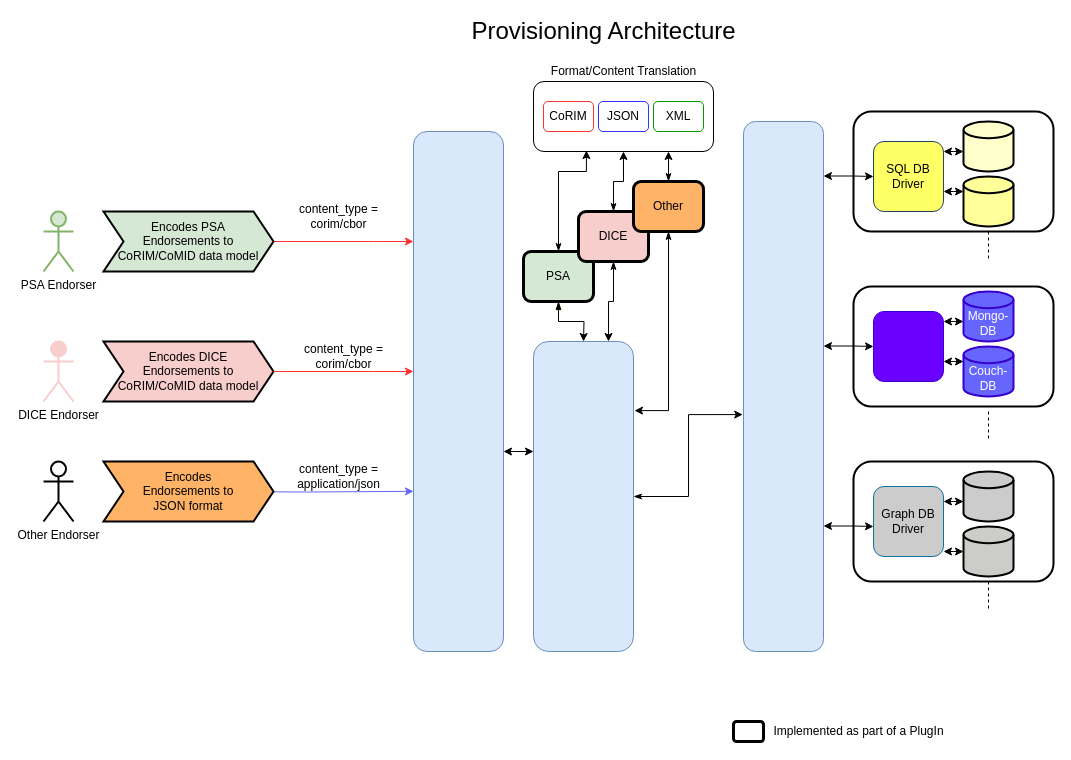
The diagram is 1071 pixels wide and 760 high, and some of its shapes have lost their labels. Each missing label, with the centre of its shape:
Arango: the point at 988,496
Document DB Driver: the point at 908,346
ENDORSEMENT STORE LOGIC: the point at 583,496
Generic DB Interface: the point at 783,386
Neo-4j: the point at 988,551
Postgres-SQL: the point at 988,201
PROVISIONING FRONT END: the point at 458,391
SQL-Lite: the point at 988,146
